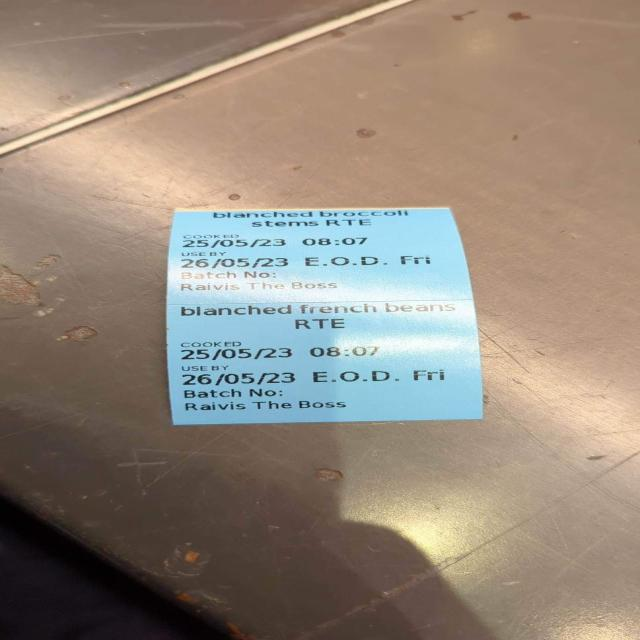product-labels: (164, 302, 483, 421), (163, 209, 474, 300)
